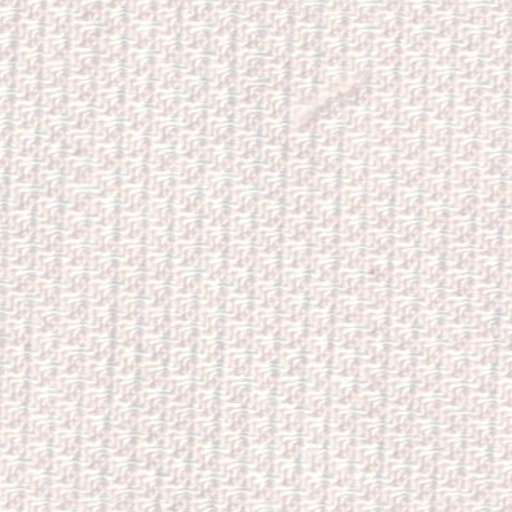DuanSha: (288, 46, 372, 146)
